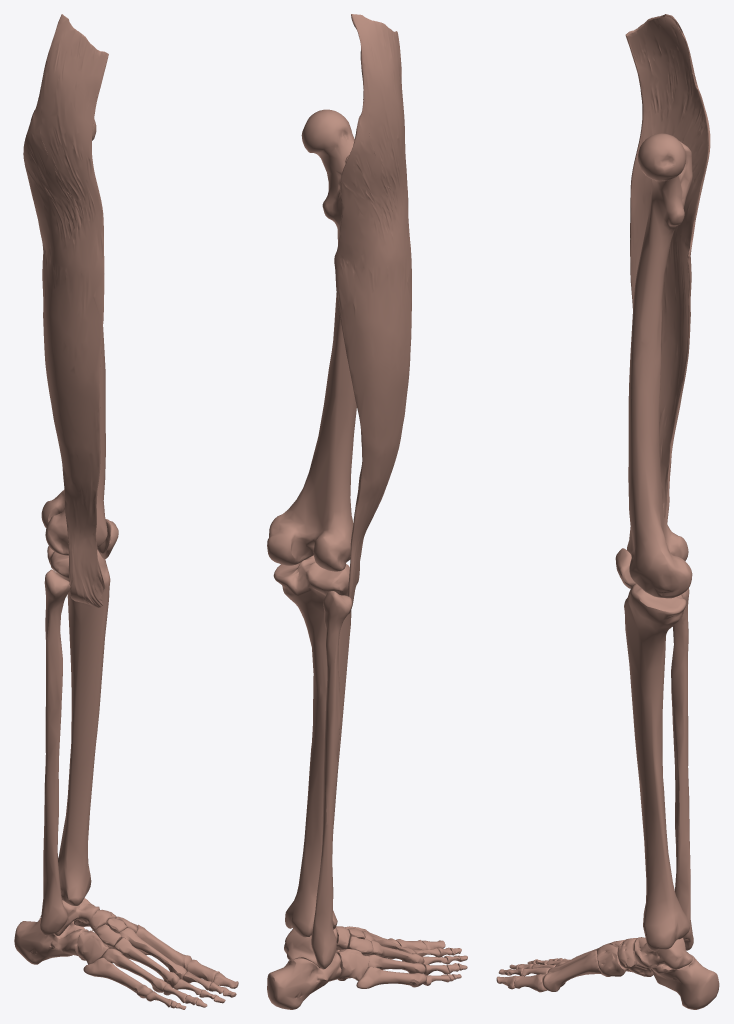
File: right-leg-0.glb
3 views of the same model, side by side, from view 1: azimuth 90°, elevation 25°; view 2: azimuth 150°, elevation 25°; view 3: azimuth 270°, elevation 25° (orthographic). The views are drawn at different scales.
Visible parts, largest first — view 1: FJ1423, FJ3387, FJ3366, FJ3365, FJ3360, FJ3359, FJ3355, FJ3357, FJ3351, FJ3364, FJ3353, FJ3385; view 2: FJ1423, FJ3365, FJ3387, FJ3366, FJ3360, FJ3359, FJ3364, FJ3385, FJ3357, FJ3355; view 3: FJ3365, FJ1423, FJ3387, FJ3366, FJ3360, FJ3385, FJ3351, FJ3377.
Boxes of the visible parts, <box> form: FJ1423: <box>23,14,108,607</box>; FJ3387: <box>47,546,110,905</box>; FJ3366: <box>40,569,70,935</box>; FJ3365: <box>41,118,107,555</box>; FJ3360: <box>14,917,88,964</box>; FJ3359: <box>83,957,152,998</box>; FJ3355: <box>114,938,179,987</box>; FJ3357: <box>102,948,167,992</box>; FJ3351: <box>136,924,191,970</box>; FJ3364: <box>77,930,109,964</box>; FJ3353: <box>119,928,186,979</box>; FJ3385: <box>40,898,99,935</box>; FJ1423: <box>334,14,411,614</box>; FJ3365: <box>267,109,356,571</box>; FJ3387: <box>273,555,351,937</box>; FJ3366: <box>311,591,352,969</box>; FJ3360: <box>267,952,341,1009</box>; FJ3359: <box>356,966,426,988</box>; FJ3364: <box>336,949,369,980</box>; FJ3385: <box>284,928,337,967</box>; FJ3357: <box>368,954,425,973</box>; FJ3355: <box>364,940,423,964</box>; FJ3365: <box>627,133,692,598</box>; FJ1423: <box>625,14,710,523</box>; FJ3387: <box>624,584,689,951</box>; FJ3366: <box>671,588,693,950</box>; FJ3360: <box>650,954,719,1009</box>; FJ3385: <box>633,937,693,969</box>; FJ3351: <box>542,950,601,991</box>; FJ3377: <box>597,944,626,976</box>.
Bounding box in the file's own units: 0.1374 × 1.02 × 0.212.
